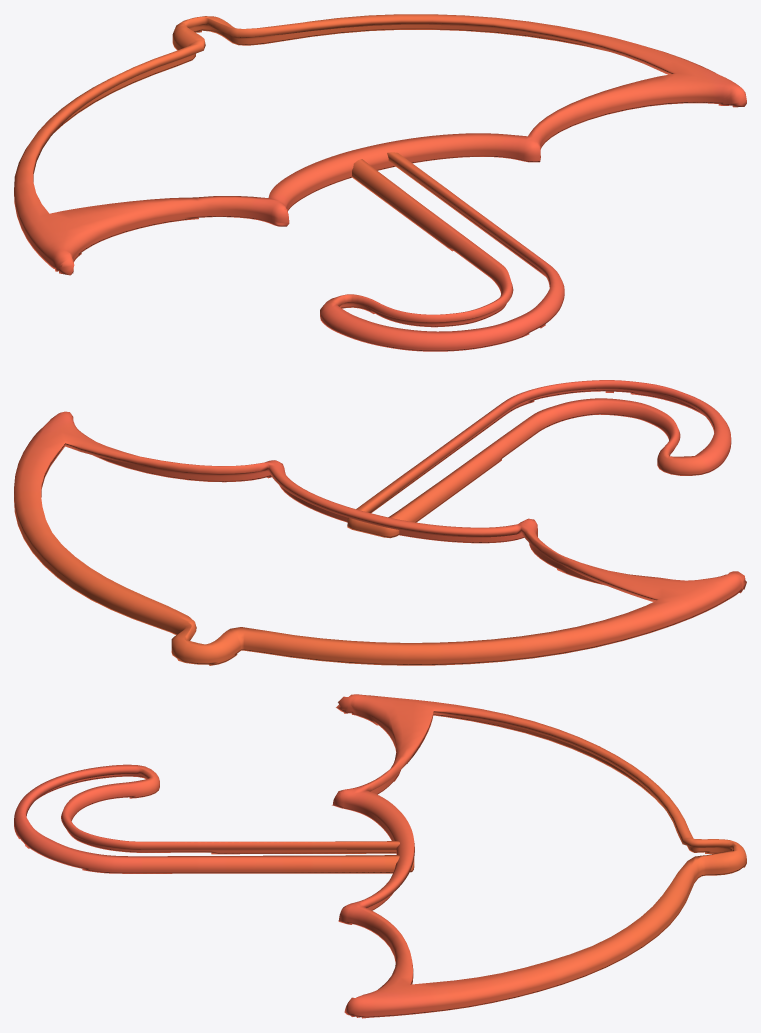
Rendered from UmbrellaCO.fbx.
3 renders of one model, top to bottom at view 1: azimuth 30°, elevation 25°; view 2: azimuth 150°, elevation 25°; view 3: azimuth 270°, elevation 25°, orthographic. The views are drawn at different scales.
Visible parts, largest first — view 1: Umbrella; view 2: Umbrella; view 3: Umbrella.
Part boxes in pixels (x1,y1,x2,y2): Umbrella: [14, 14, 746, 351]; Umbrella: [14, 380, 746, 665]; Umbrella: [14, 694, 746, 1018].
Bounding box in the file's own units: 11.15 × 0.2852 × 11.12.
1 material, 1 textured.
